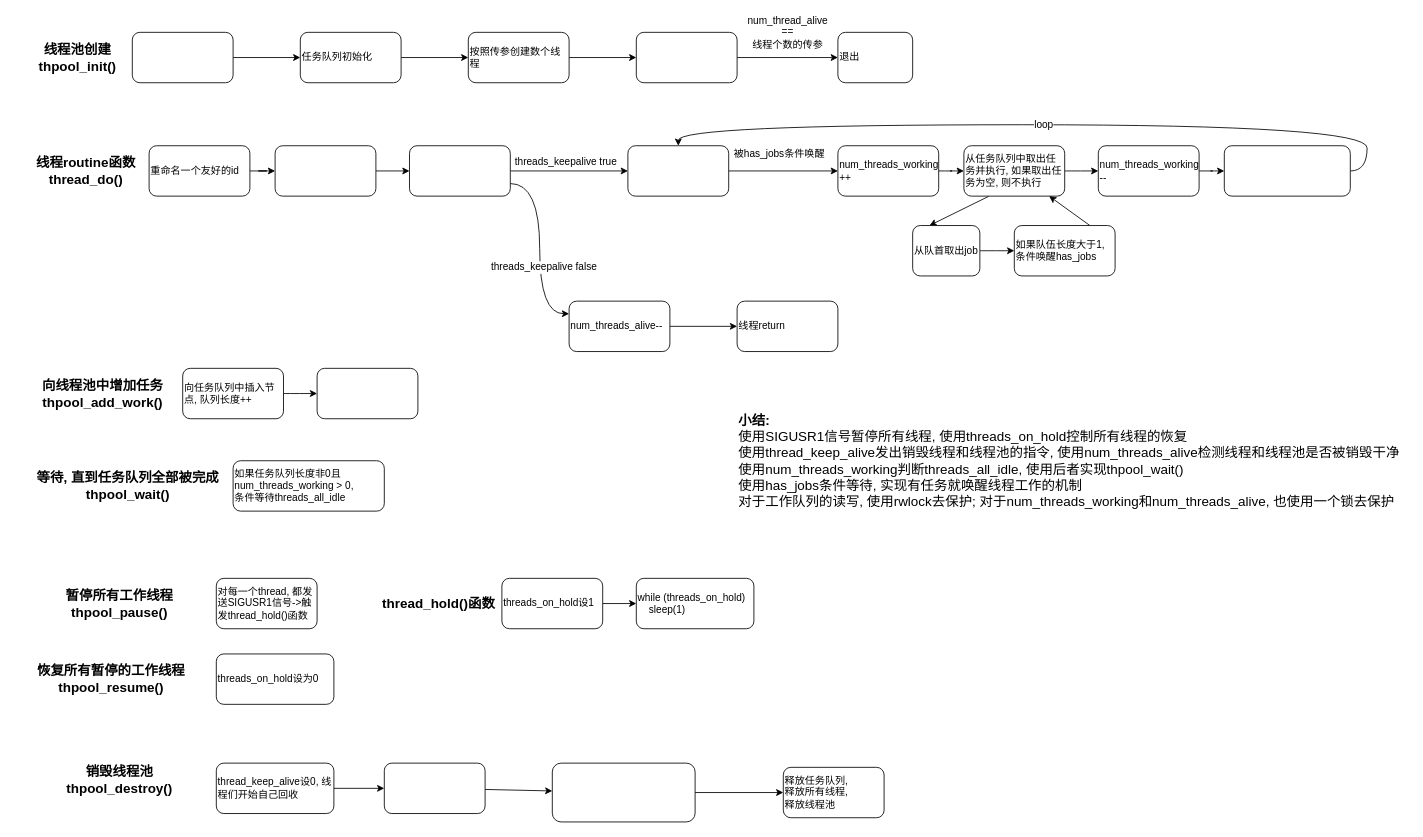
The diagram is 1423 pixels wide and 837 high, and some of its shapes have lost their labels. The shapes that lost their labels are listed below. From the top down, each one's box as (x1, y1, x2, y2) in pixels, then its label:
(131, 32, 233, 83): 申请thread_pool实体
(635, 32, 737, 83): 等待线程全部创建完成
(274, 145, 376, 196): 初始化SIGUSR1, 与thread_hold()函数绑定
(409, 145, 510, 196): num_threads_alive++
(627, 145, 729, 196): 根据has_jobs条件等待
(1223, 145, 1350, 196): 判断num_threads_working是否为0, 如果为0则条件唤醒threads_all_idle
(316, 368, 418, 419): 此时肯定有任务待消费, 因此条件唤醒has_jobs
(383, 762, 485, 814): 给1秒的时间, 持续的条件唤醒所有has_jobs, 让条件等待的线程们执行完
(551, 762, 695, 822): while( num_threads_alive>0) { post_all(has_jobs); sleep(1); } 保证所有线程都结束
